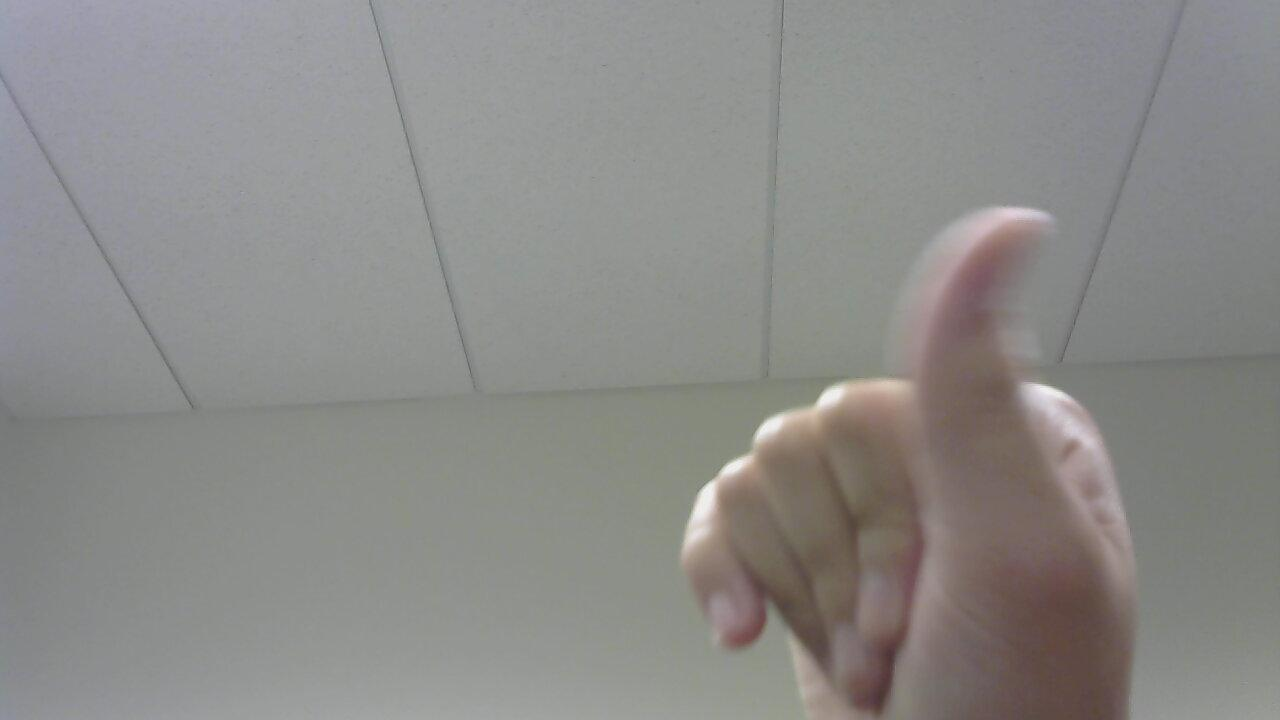hands: (696, 194, 1199, 720)
